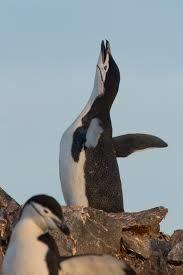chinstrap: (43, 37, 162, 214)
